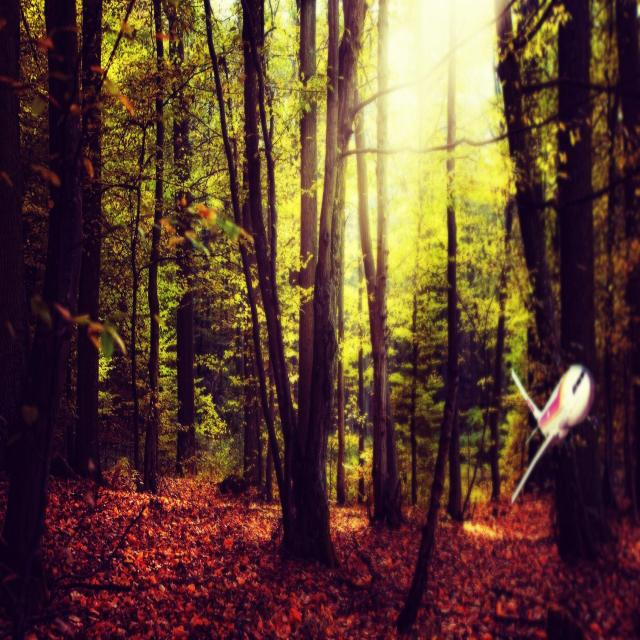airplane: (510, 362, 594, 504)
